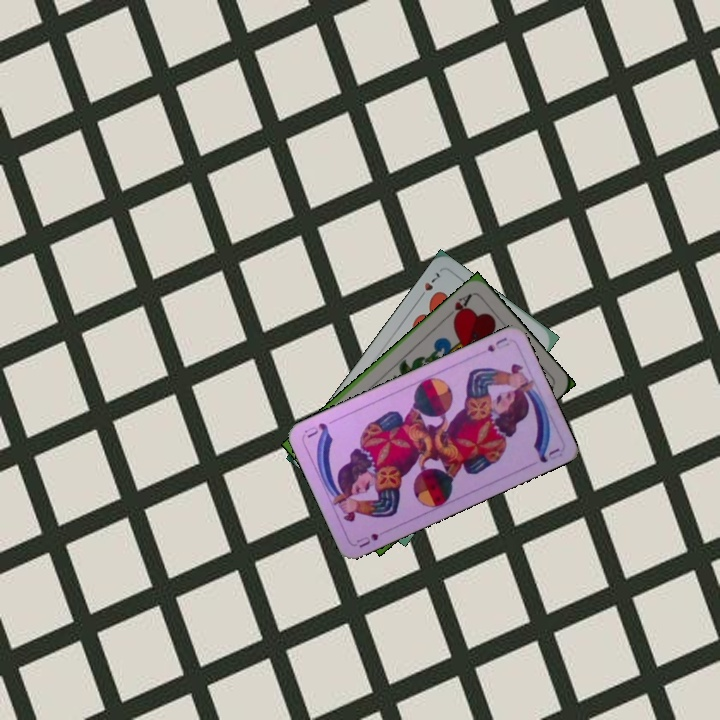H7: (414, 268, 442, 303)
HA: (442, 289, 475, 323)
SU: (352, 525, 391, 550), (483, 333, 512, 355)
